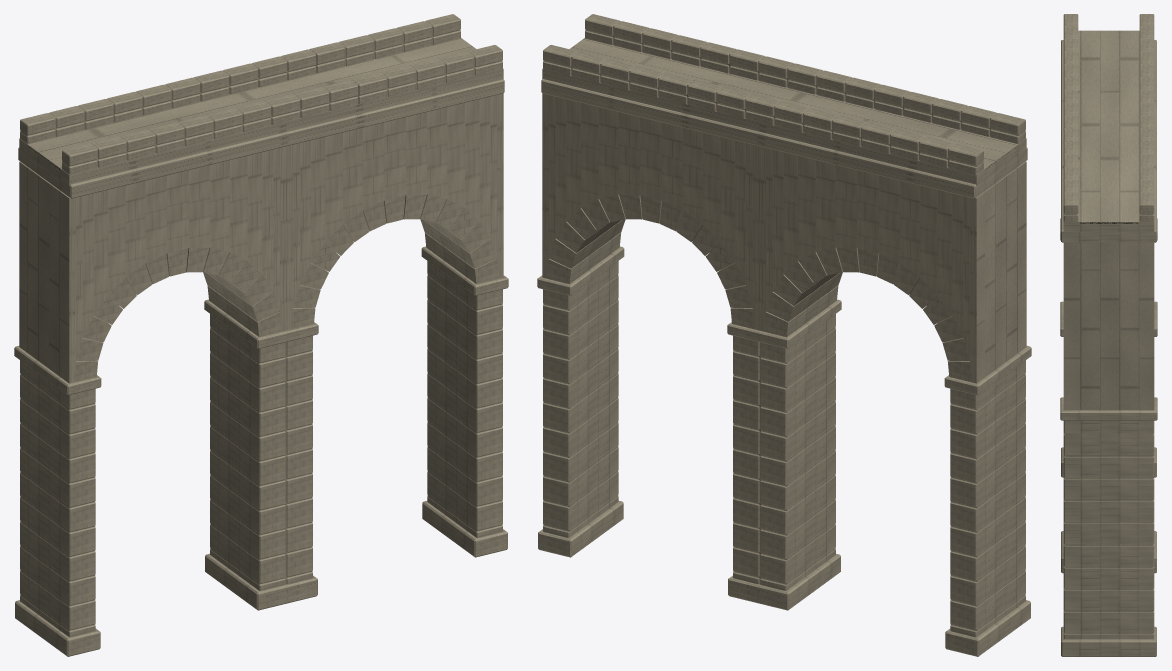
The model's file is aqueduct-section.glb.
3 views of the same model, side by side, from view 1: azimuth 30°, elevation 25°; view 2: azimuth 150°, elevation 25°; view 3: azimuth 270°, elevation 25° (orthographic). The views are drawn at different scales.
Parts seen in each view (by area): view 1: aqueduct-section; view 2: aqueduct-section; view 3: aqueduct-section.
Boxes of the visible parts, <box> form: aqueduct-section: <box>14,14,508,656</box>; aqueduct-section: <box>537,14,1031,656</box>; aqueduct-section: <box>1060,14,1157,656</box>.
Bounding box in the file's own units: 8.13 × 8.79 × 1.72.
1 material, 1 textured.
